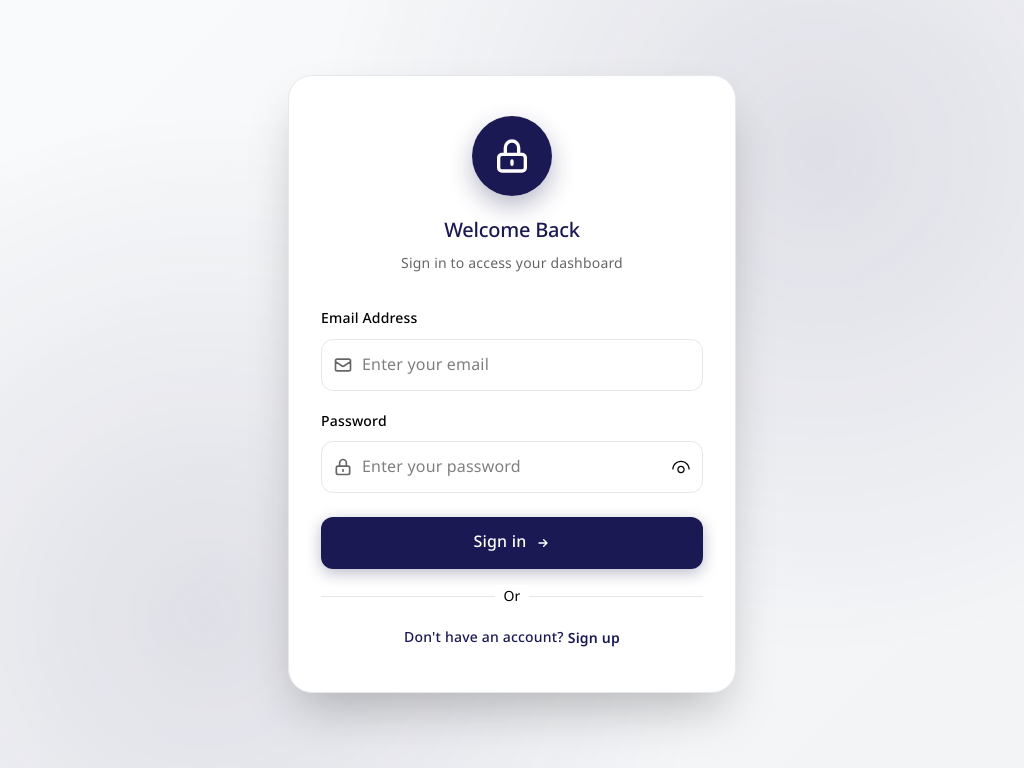
Test: LoginForm Component › should show validation error for short password
The width and height of the screenshot is (1024, 768).
In the password field with placeholder "Enter your password": (512,467) [321,441,703,493], type "123"
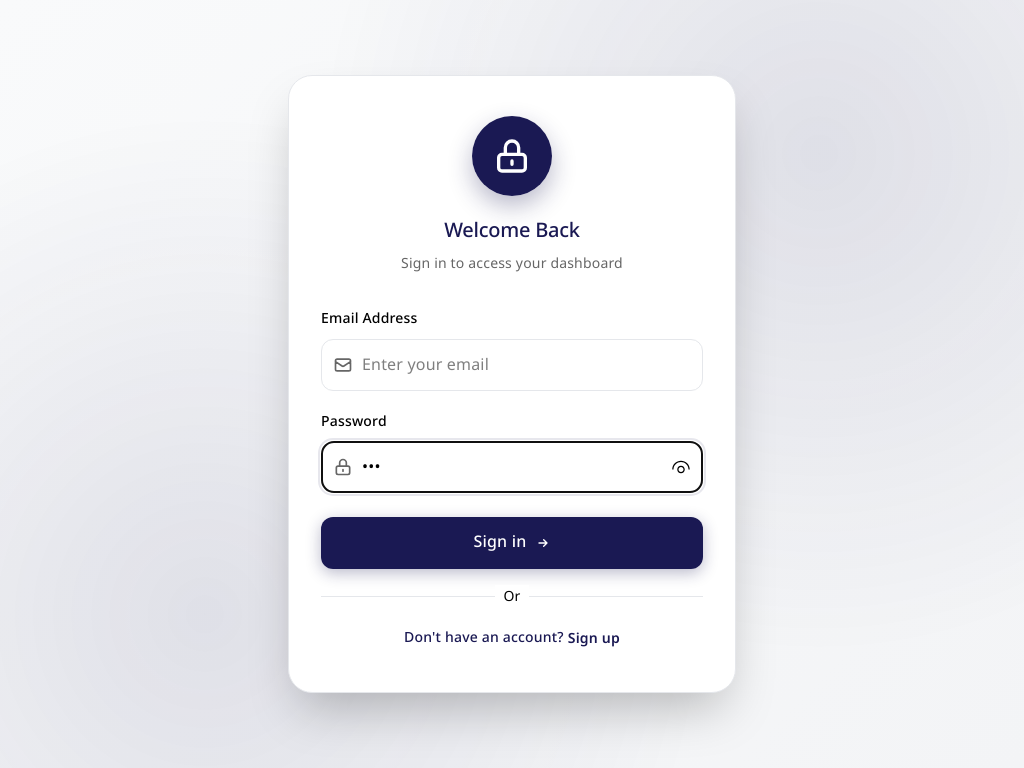
Click the button "Sign in": (512,543) [321,517,703,569]
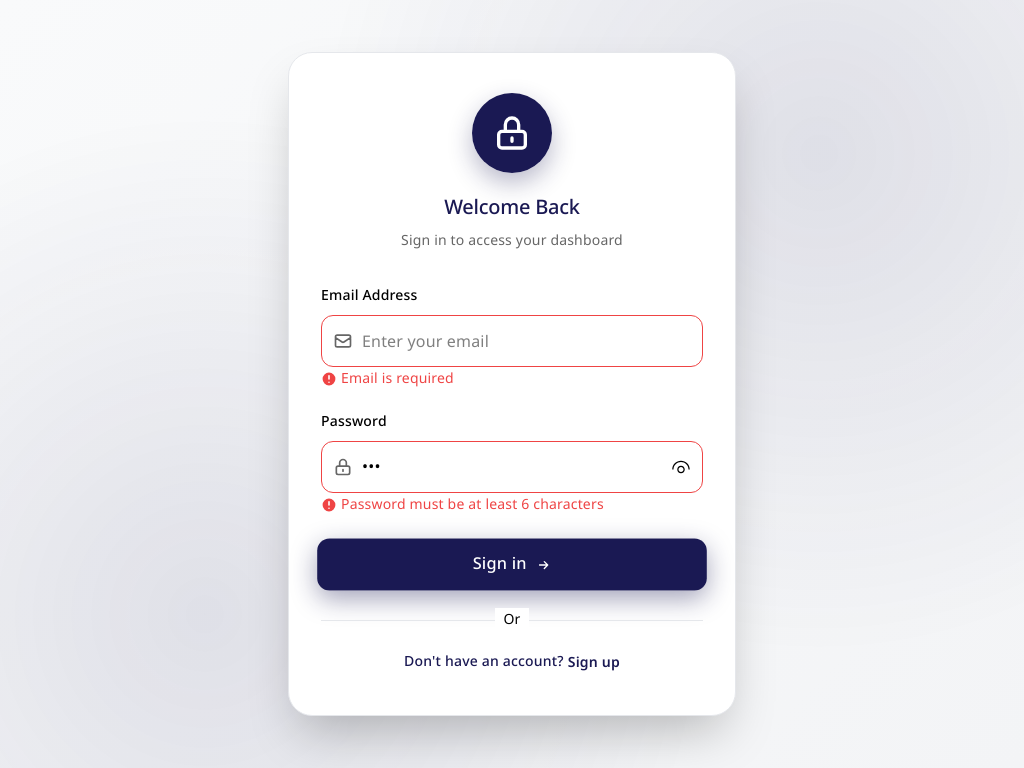
Now the text "Password must be at least 6 characters" is shown, box [321,490,604,519]
